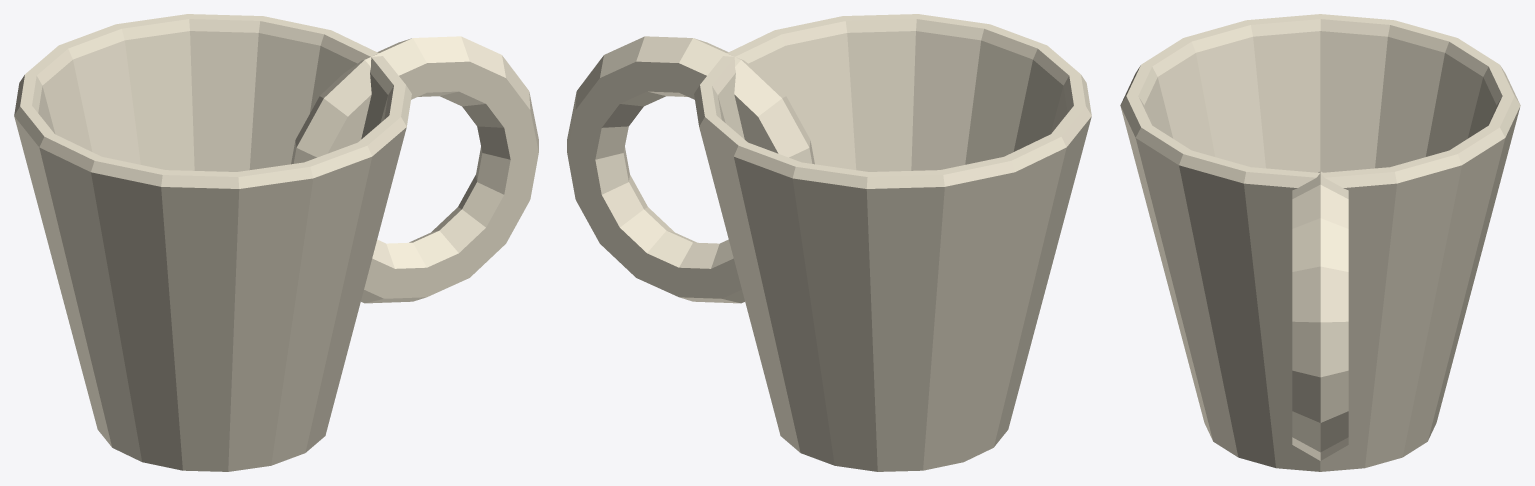
File: Coffee_Cup_A.glb
3 renders of one model, left to right at view 1: azimuth 30°, elevation 25°; view 2: azimuth 150°, elevation 25°; view 3: azimuth 270°, elevation 25°, orthographic.
Parts seen in each view (by area): view 1: Coffee_Cup_A; view 2: Coffee_Cup_A; view 3: Coffee_Cup_A.
Boxes of the visible parts, bbox=[...] form: Coffee_Cup_A: bbox=[14, 14, 538, 471]; Coffee_Cup_A: bbox=[567, 14, 1091, 471]; Coffee_Cup_A: bbox=[1120, 14, 1520, 471].
Size of the model in its own units: 0.23 by 0.148 by 0.16.
